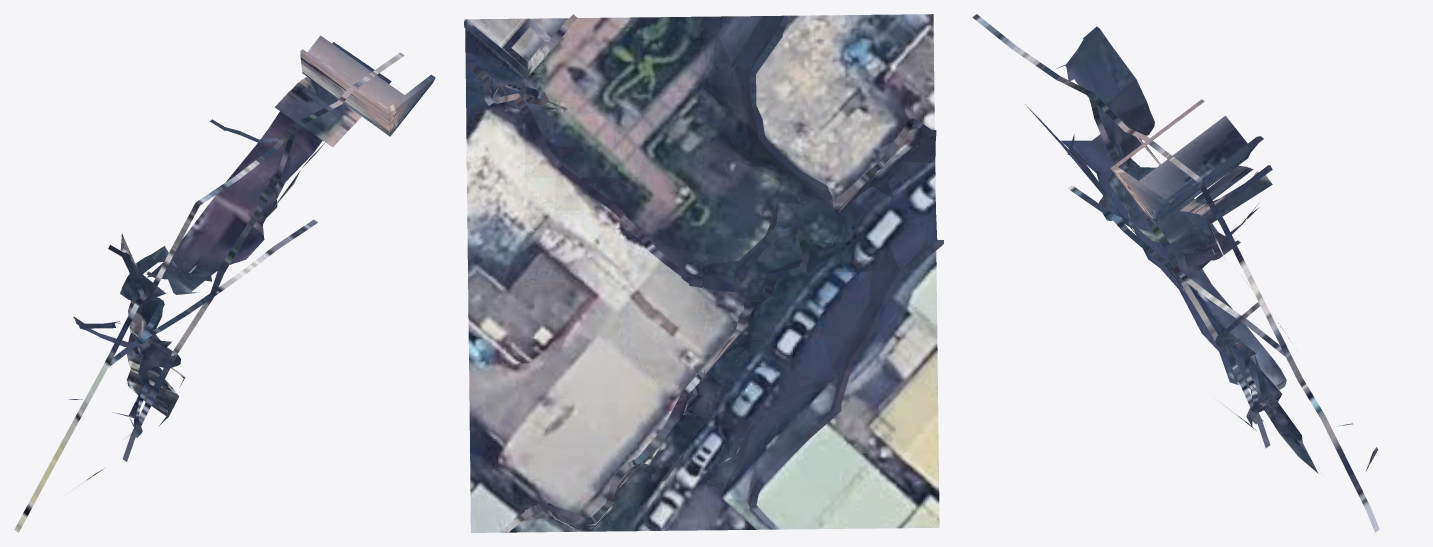
The picture shows the model from 3 angles, left to right: view 1: azimuth 30°, elevation 25°; view 2: azimuth 150°, elevation 25°; view 3: azimuth 270°, elevation 25°; orthographic projection. The views are drawn at different scales.
Bounding box in the file's own units: 40.62 × 37.18 × 34.97.
Materials: 2 (2 with a texture image).
